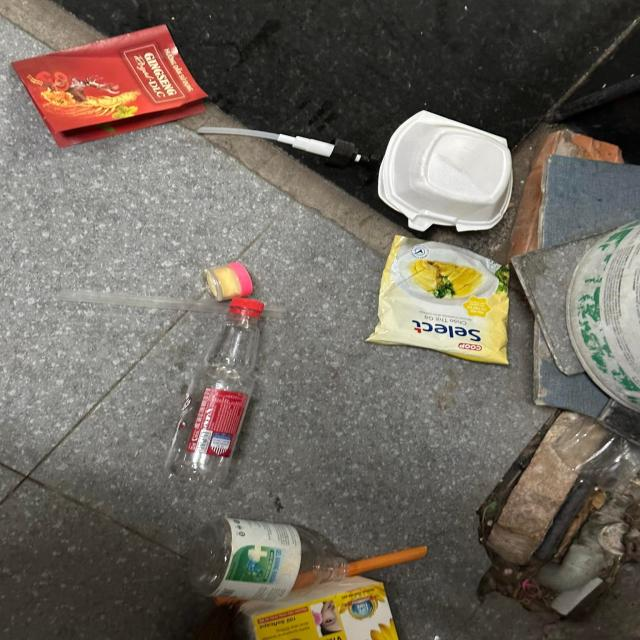bottle: (162, 298, 264, 487), (188, 517, 347, 603)
cardboard box: (239, 573, 399, 640)
drinking straw: (211, 545, 428, 604), (54, 290, 288, 318)
foam box: (378, 109, 515, 232)
paper: (11, 23, 210, 147)
plastic glass: (551, 417, 640, 491)
plastic holder: (203, 262, 254, 302)
snack package: (364, 234, 509, 366)
